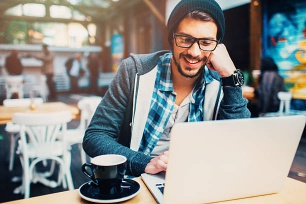male: (160, 1, 223, 82)
